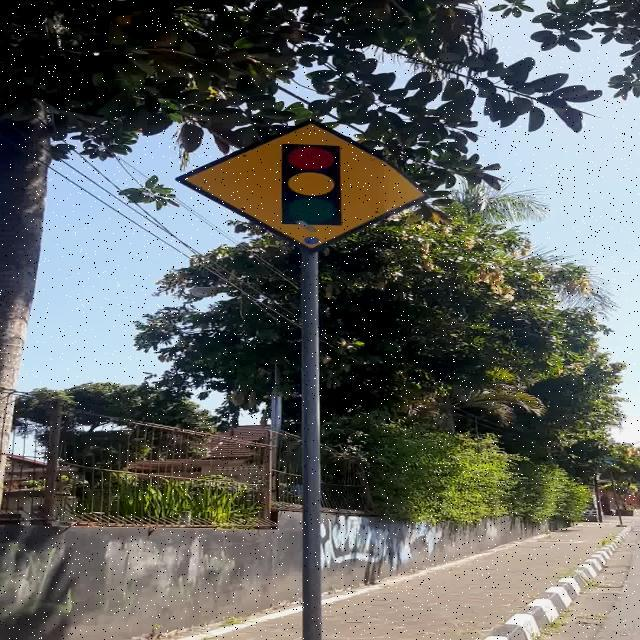Lampu Lalu Lintas: (176, 120, 430, 252)
